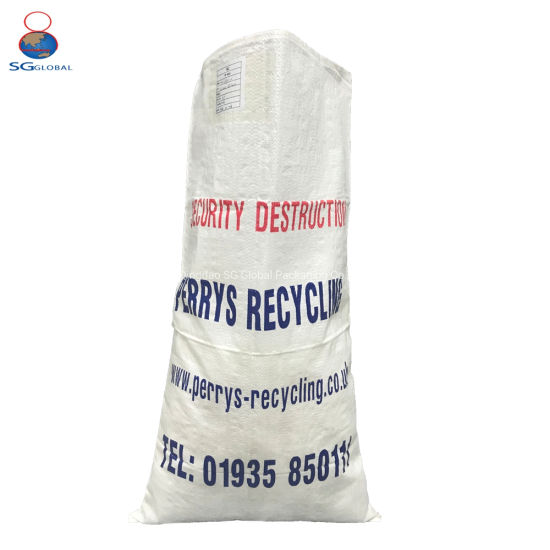feed_bag: (124, 26, 397, 540)
